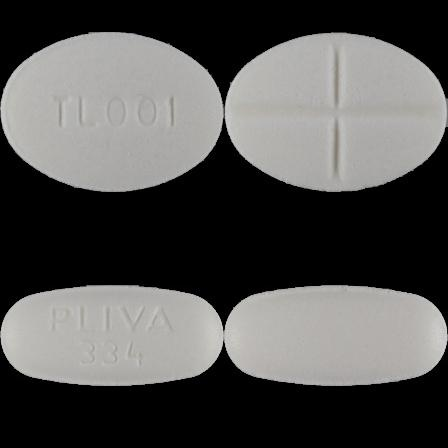16590-149: (0, 0, 224, 224)
